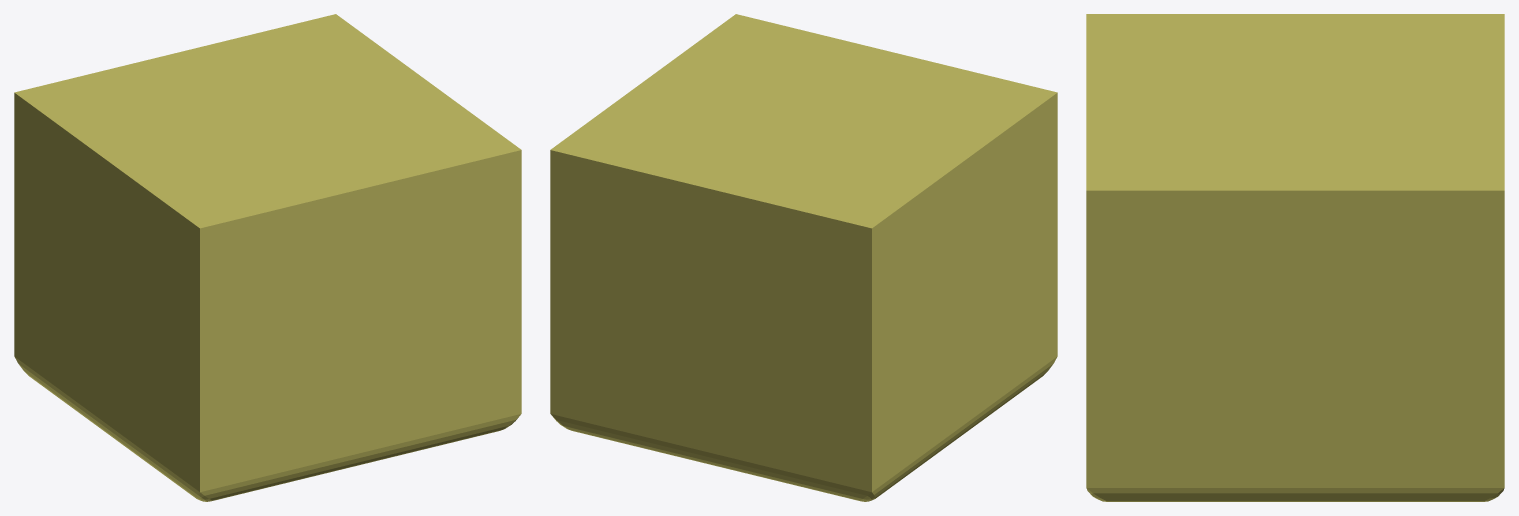
Rendered from chao_caminho2fbx.fbx.
The picture shows the model from 3 angles, left to right: view 1: azimuth 30°, elevation 25°; view 2: azimuth 150°, elevation 25°; view 3: azimuth 270°, elevation 25°; orthographic projection. The views are drawn at different scales.
Visible parts, largest first — view 1: chao largo2.004; view 2: chao largo2.004; view 3: chao largo2.004.
Part boxes in pixels (x1,y1,x2,y2): chao largo2.004: (14,14,521,501); chao largo2.004: (550,14,1057,501); chao largo2.004: (1086,14,1504,501).
Bounding box in the file's own units: 200 × 169 × 200.
